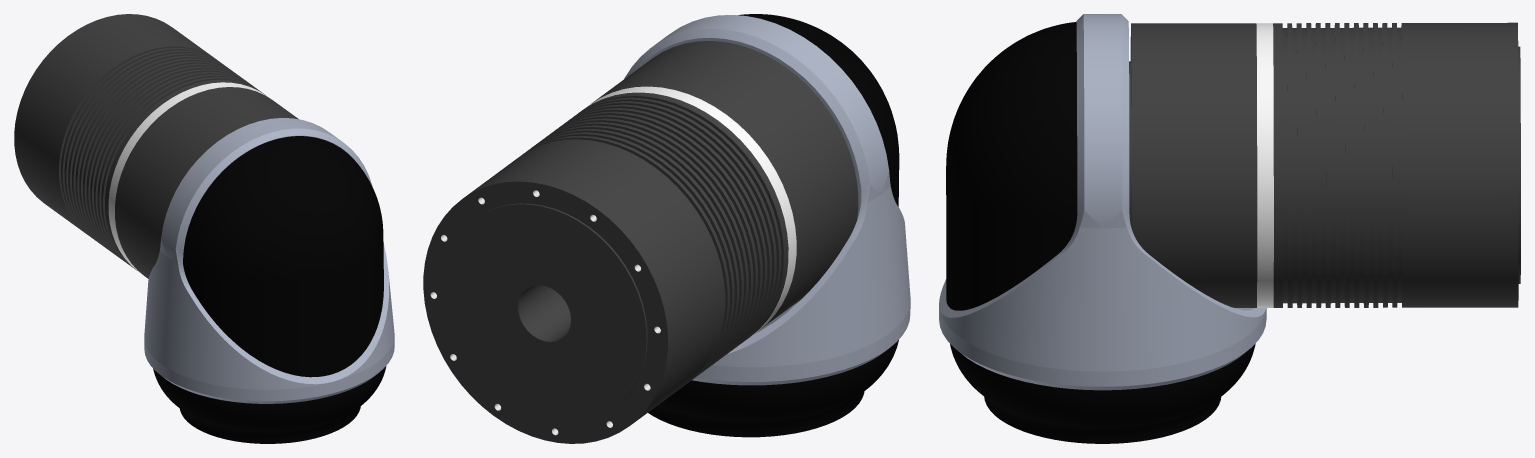
Rendered from Forth.fbx.
The picture shows the model from 3 angles, left to right: view 1: azimuth 30°, elevation 25°; view 2: azimuth 150°, elevation 25°; view 3: azimuth 270°, elevation 25°; orthographic projection. The views are drawn at different scales.
Parts seen in each view (by area): view 1: color-5, color-2, color-4, color; view 2: color-2, color-4, color-5, color, color-3; view 3: color-2, color-4, color-5, color.
Boxes of the visible parts, x1,y1,x2,y2 form: color-5: (153, 136, 386, 443); color-2: (14, 14, 298, 278); color-4: (144, 118, 394, 403); color: (108, 82, 270, 274); color-2: (423, 41, 858, 443); color-4: (624, 15, 910, 385); color-5: (648, 14, 899, 437); color: (584, 86, 796, 335); color-3: (430, 190, 660, 435); color-2: (1129, 22, 1520, 307); color-4: (939, 14, 1266, 390); color-5: (946, 22, 1255, 443); color: (1256, 23, 1273, 307).
Size of the model in its own units: 6.9 by 8.53 by 12.26.
